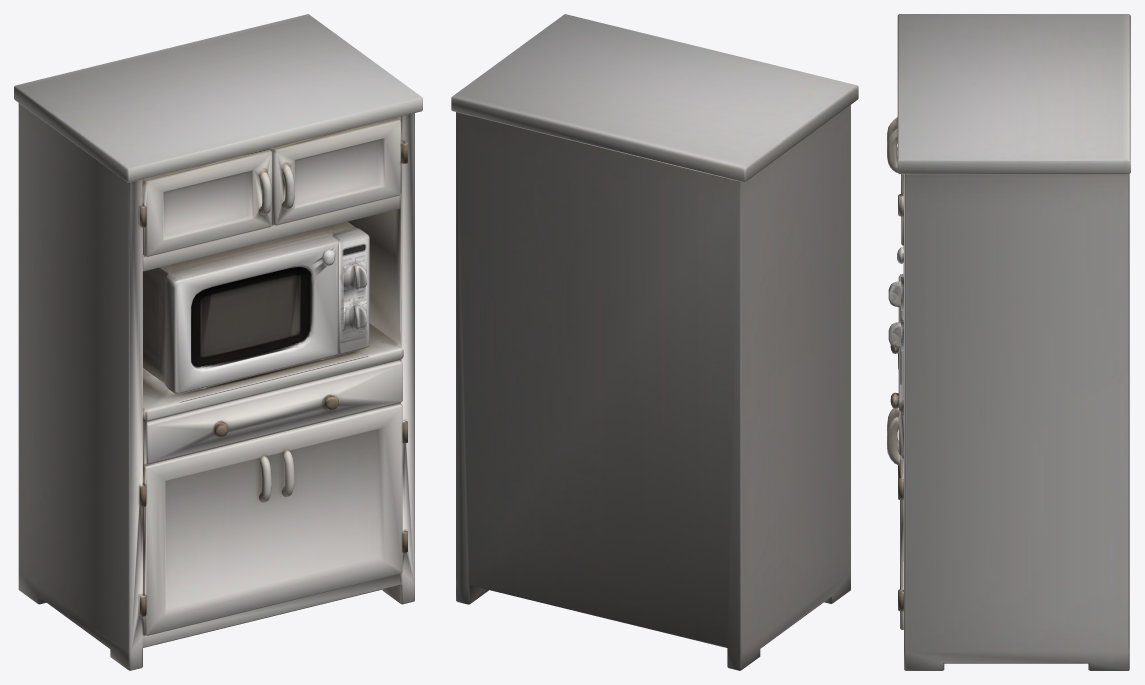
Rendered from microwave_cabinet_everyday_realistic_style_434ef68a_v1.glb.
3 views of the same model, side by side, from view 1: azimuth 30°, elevation 25°; view 2: azimuth 150°, elevation 25°; view 3: azimuth 270°, elevation 25° (orthographic).
Visible parts, largest first — view 1: mesh_input; view 2: mesh_input; view 3: mesh_input.
Part boxes in pixels (<box>): mesh_input: <box>14,14,422,670</box>; mesh_input: <box>451,14,858,670</box>; mesh_input: <box>887,14,1130,670</box>.
Bounding box in the file's own units: 1.16 × 1.9 × 0.8164.
1 material, 1 textured.
